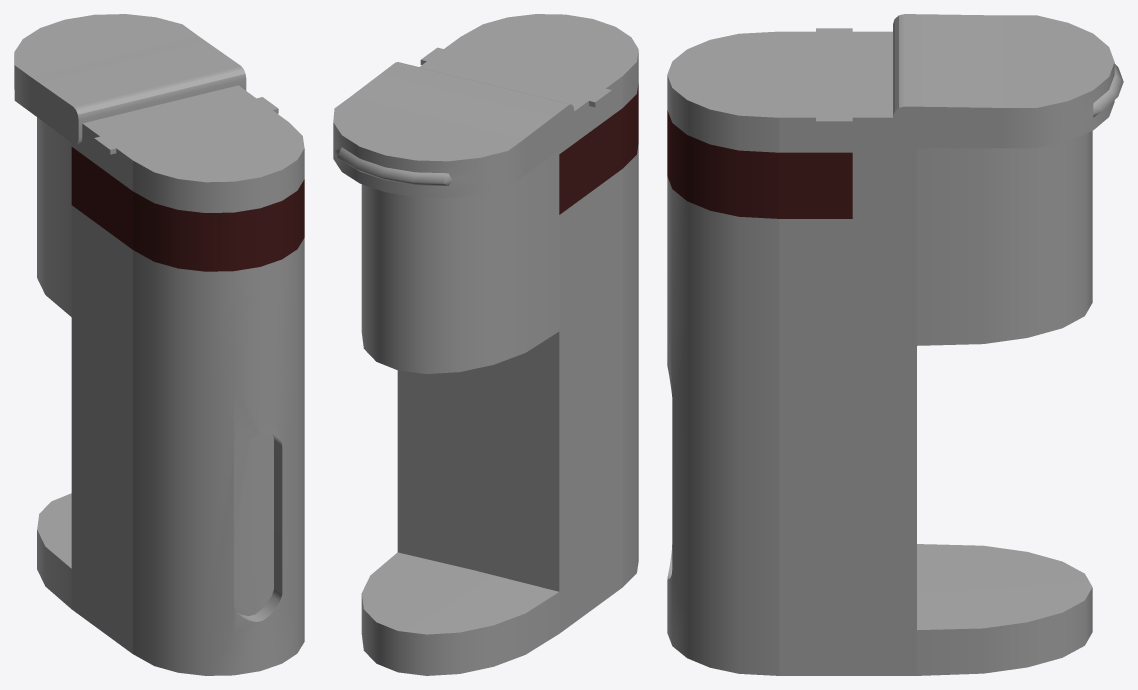
The model's file is Keurig.fbx.
3 views of the same model, side by side, from view 1: azimuth 30°, elevation 25°; view 2: azimuth 150°, elevation 25°; view 3: azimuth 270°, elevation 25° (orthographic). The views are drawn at different scales.
Parts seen in each view (by area): view 1: pCylinder46; view 2: pCylinder46; view 3: pCylinder46.
Boxes of the visible parts, <box> form: pCylinder46: <box>14,14,304,675</box>; pCylinder46: <box>333,14,638,675</box>; pCylinder46: <box>667,14,1123,675</box>.
Bounding box in the file's own units: 0.5108 × 1.46 × 1.05.
